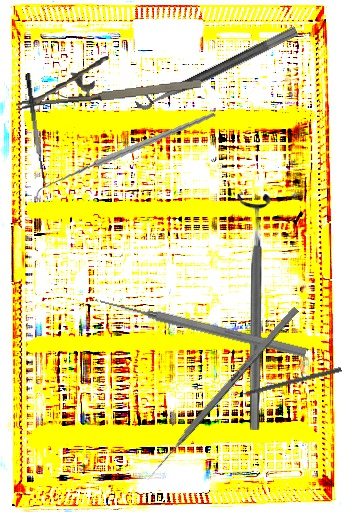Fixation Ring: (129, 12, 299, 114), (236, 194, 273, 430)
Hook Surgical: (34, 92, 217, 221)
Needle Holder: (12, 47, 202, 111)
Pusher: (144, 305, 299, 483), (98, 294, 308, 360), (227, 365, 342, 401)
Spatula Surgical: (24, 72, 54, 185)
